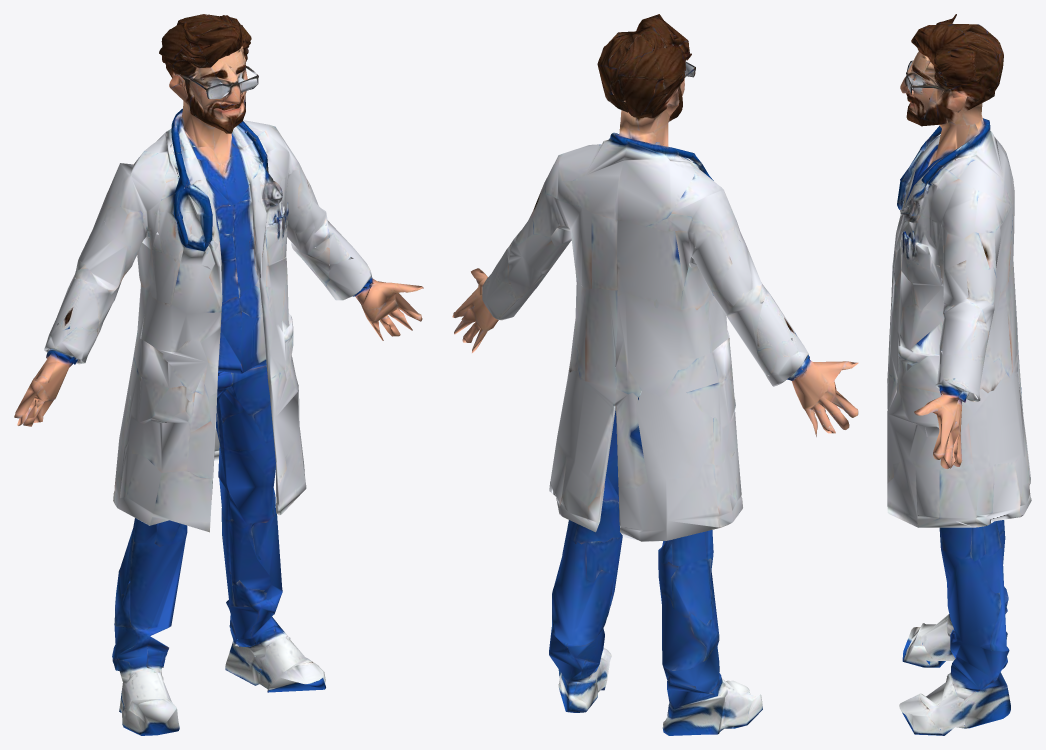
File: doctor.glb
3 renders of one model, left to right at view 1: azimuth 30°, elevation 25°; view 2: azimuth 150°, elevation 25°; view 3: azimuth 270°, elevation 25°, orthographic. The views are drawn at different scales.
Parts seen in each view (by area): view 1: doctor; view 2: doctor; view 3: doctor.
Boxes of the visible parts, bbox=[...] form: doctor: bbox=[14, 14, 423, 735]; doctor: bbox=[452, 14, 858, 735]; doctor: bbox=[887, 14, 1031, 735].
Bounding box in the file's own units: 1.12 × 1.8 × 0.3526.
Materials: 1 (1 with a texture image).
